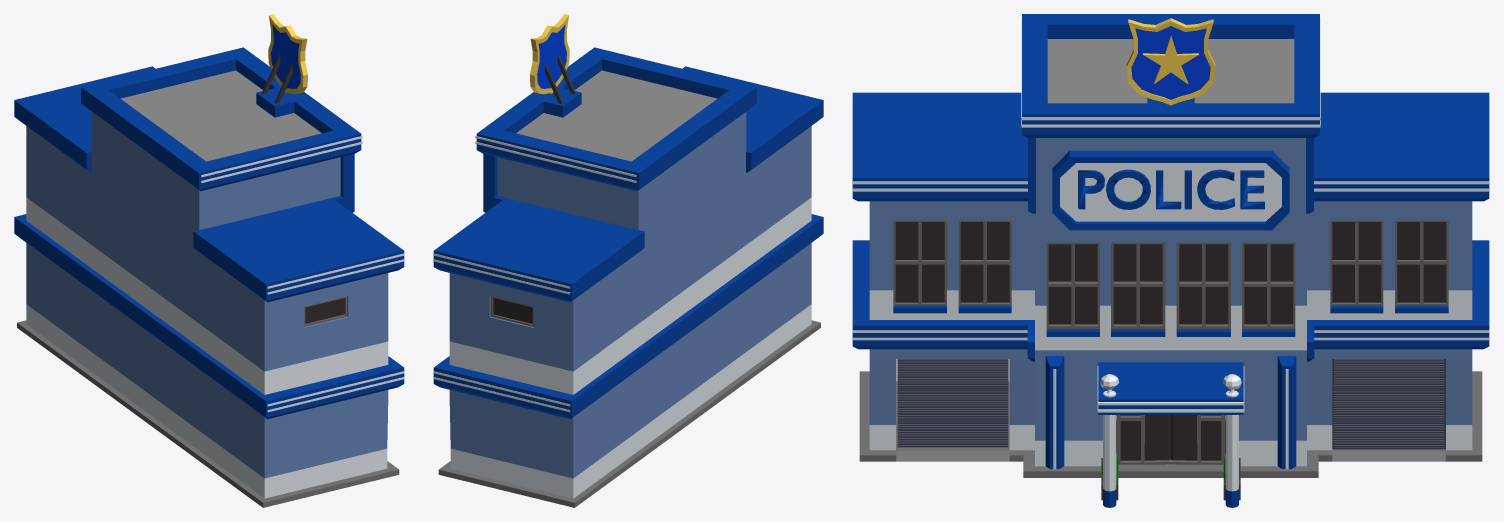
Rendered from Policijska Postaja.fbx.
3 views of the same model, side by side, from view 1: azimuth 30°, elevation 25°; view 2: azimuth 150°, elevation 25°; view 3: azimuth 270°, elevation 25° (orthographic). The views are drawn at different scales.
Visible parts, largest first — view 1: PublicBuilding_Police; view 2: PublicBuilding_Police; view 3: PublicBuilding_Police.
Part boxes in pixels (left/top/right/bottom): PublicBuilding_Police: left=14, top=14, right=404, bottom=507; PublicBuilding_Police: left=433, top=14, right=823, bottom=507; PublicBuilding_Police: left=852, top=14, right=1489, bottom=507.
Size of the model in its own units: 444 by 700 by 900.
